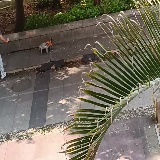fire: (46, 39, 52, 46)
